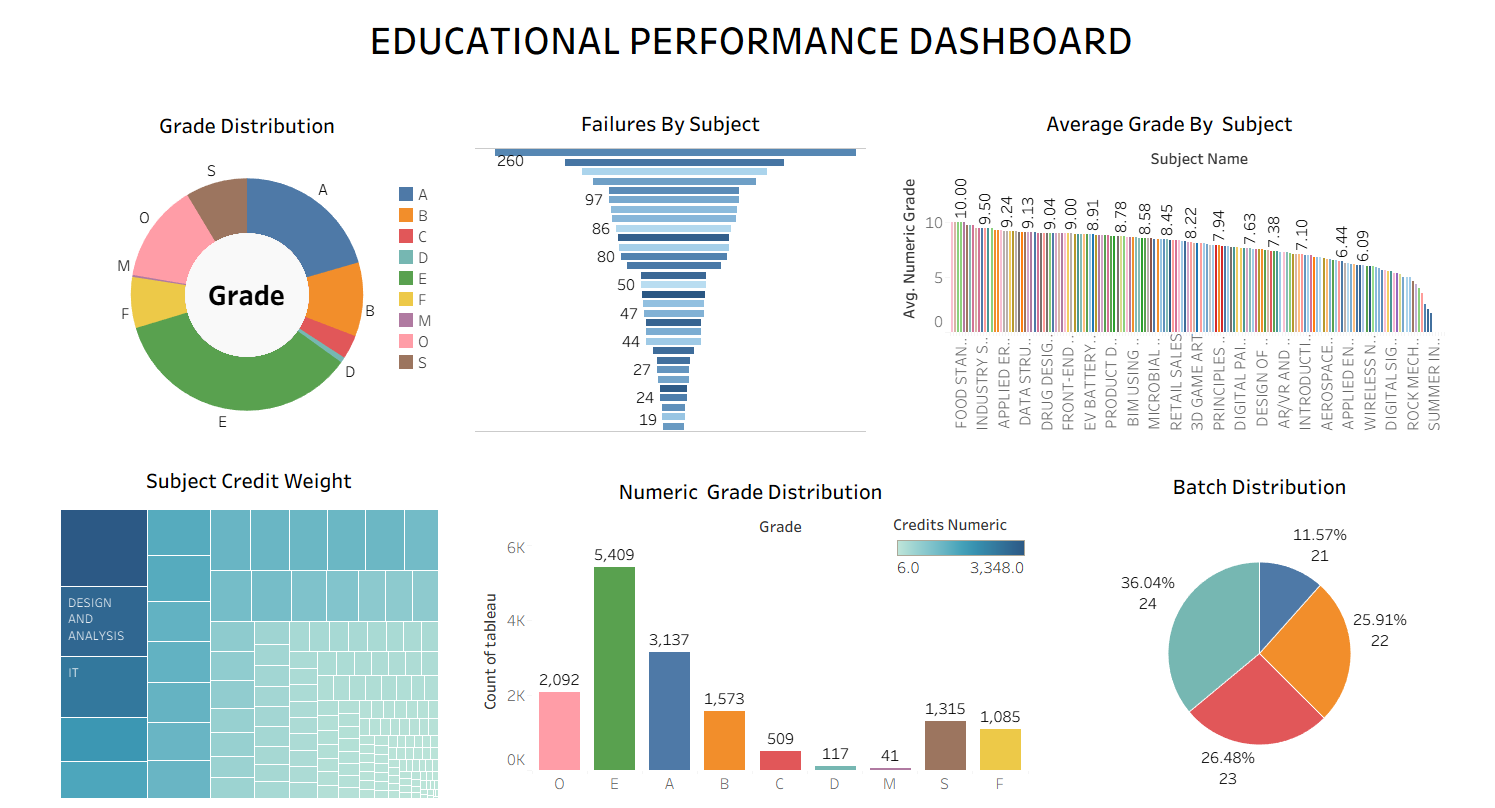

This screenshot's page, from the dashboard's own definition file:
{"tool":"tableau","page":{"name":"Dashboard 1","canvas":[1000,1000],"units":"permille","ordinal":0},"visuals":[{"type":"text","box":[237.3,20.9,497.4,116.1]},{"type":"image","param":"Image/Presentation1.jpg","box":[29.6,23.2,919.7,972.1]},{"type":"worksheet","title":"Failures By Subject","mark":"Bar","rows":["Subject_Name"],"cols":["Calculation_1205838802239402007","Calculation_1205838802239402007"],"box":[319.3,155.6,236.7,379.8]},{"type":"worksheet","title":" Average Grade by Subject","mark":"Bar","rows":["Calculation_1638747314678427649"],"cols":["Subject_Name"],"box":[570.6,155.6,336.3,379.8]},{"type":"worksheet","title":"Grade Distribution","mark":"Pie","cols":["Calculation_1205838802202300432","Calculation_1205838802202333202"],"box":[63.9,158,235.5,385.6]},{"type":"legend","title":"Grade Distribution","param":"[federated.0icnqm40qkjprg19z907705zhb0t].[none:Grade:nk]","box":[271.8,221.8,25.2,245.1]},{"type":"worksheet","title":"Subject Credit Weight","mark":"Automatic","box":[66.2,570.3,233.2,394.9]},{"type":"worksheet","title":"Batch Distribution","mark":"Pie","box":[676,577.2,233.7,380.9]},{"type":"worksheet","title":"Numeric Grade Distribution","mark":"Bar","rows":["tableau_DC7BC63F05C544E3B3AFC10002170CD7"],"cols":["Grade"],"box":[317.5,583,336.3,374]},{"type":"legend","title":"Subject Credit Weight","param":"[federated.0icnqm40qkjprg19z907705zhb0t].[sum:Calculation_1896578396111372288:qk","box":[571.8,630.7,82,102.2]}]}

Visuals, with their boxes on the dashboard's canvas, which has no fixed pixel size, in thousandths of its width and height (x1, y1, x2, y2). These are canvas units, not pixel positions in the 1495x808 screenshot, which may show the page scaled, cropped or inside an application window:
text: l=237, t=21, r=735, b=137
image: l=30, t=23, r=949, b=995
"Failures By Subject" worksheet (Bar marks): l=319, t=156, r=556, b=535
" Average Grade by Subject" worksheet (Bar marks): l=571, t=156, r=907, b=535
"Grade Distribution" worksheet (Pie marks): l=64, t=158, r=299, b=544
"Grade Distribution" legend: l=272, t=222, r=297, b=467
"Subject Credit Weight" worksheet: l=66, t=570, r=299, b=965
"Batch Distribution" worksheet (Pie marks): l=676, t=577, r=910, b=958
"Numeric Grade Distribution" worksheet (Bar marks): l=318, t=583, r=654, b=957
"Subject Credit Weight" legend: l=572, t=631, r=654, b=733
